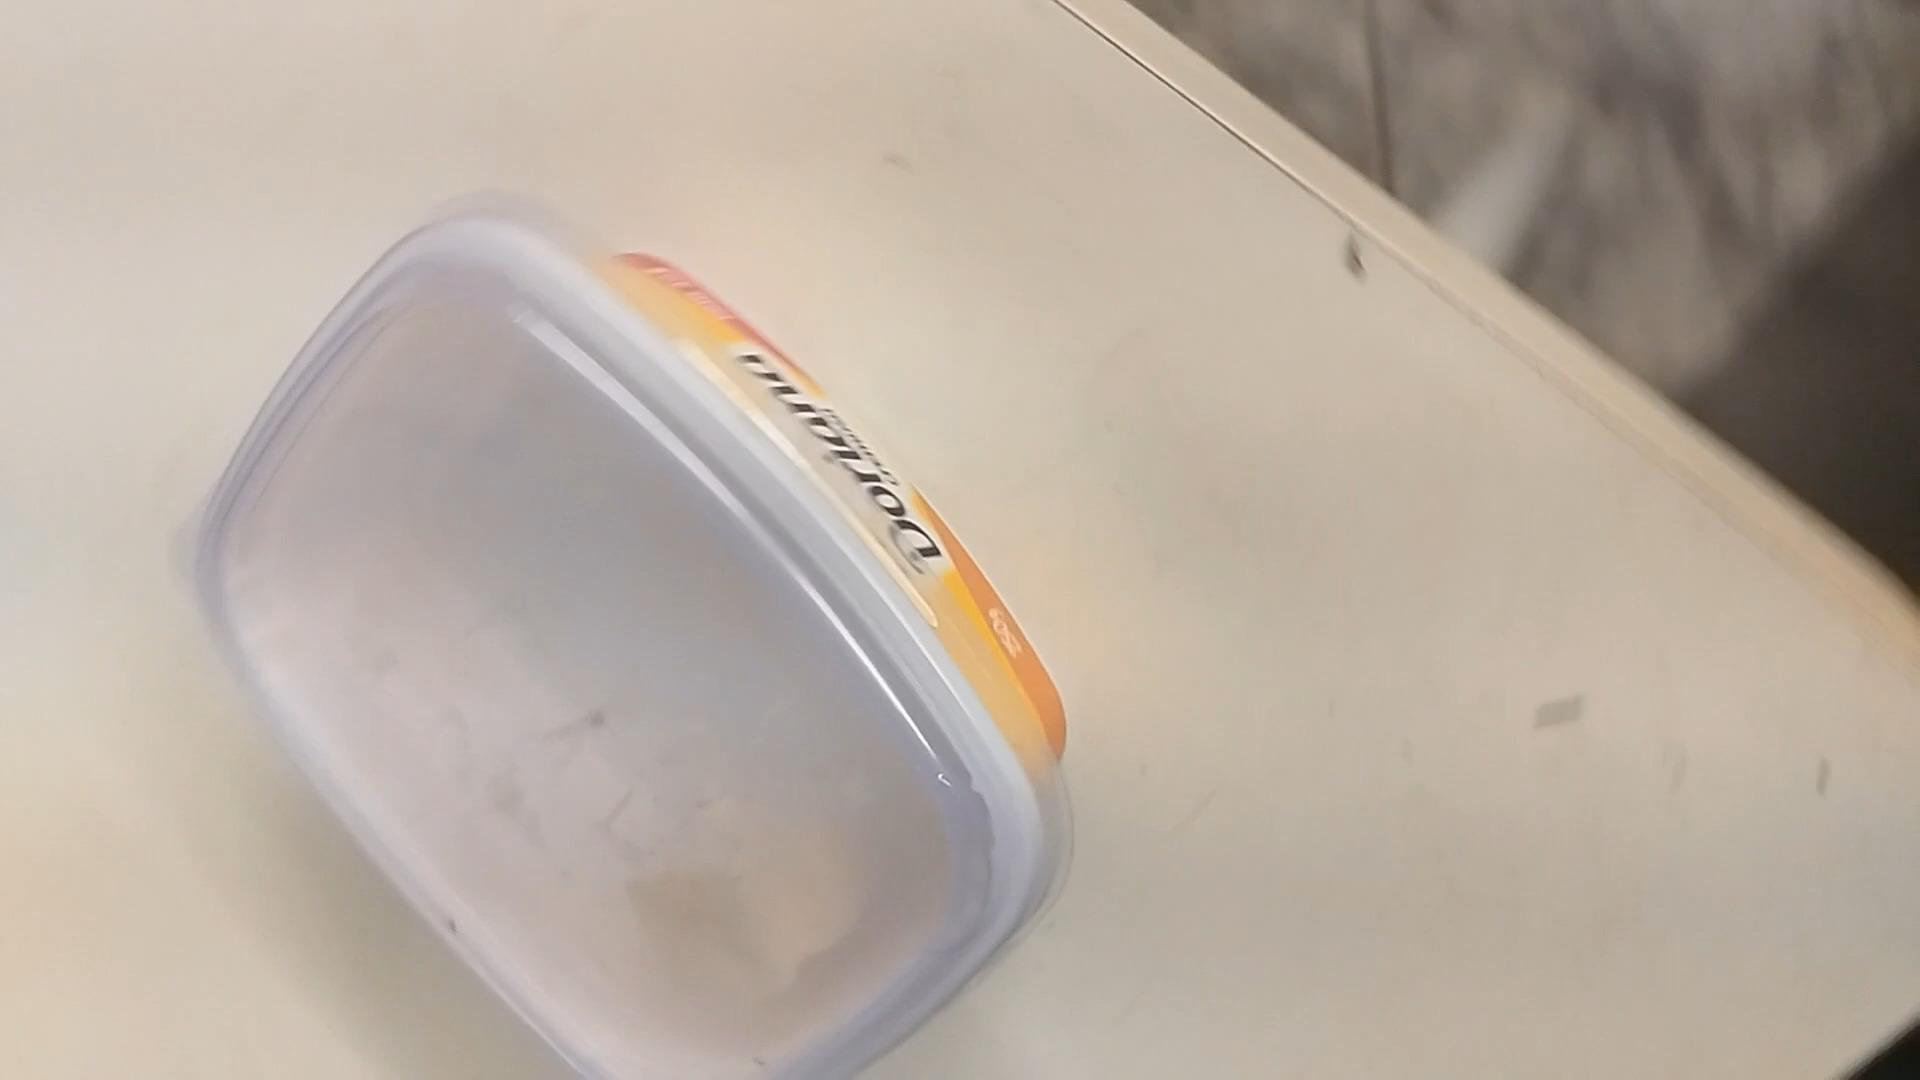butter: (196, 215, 1059, 1076)
